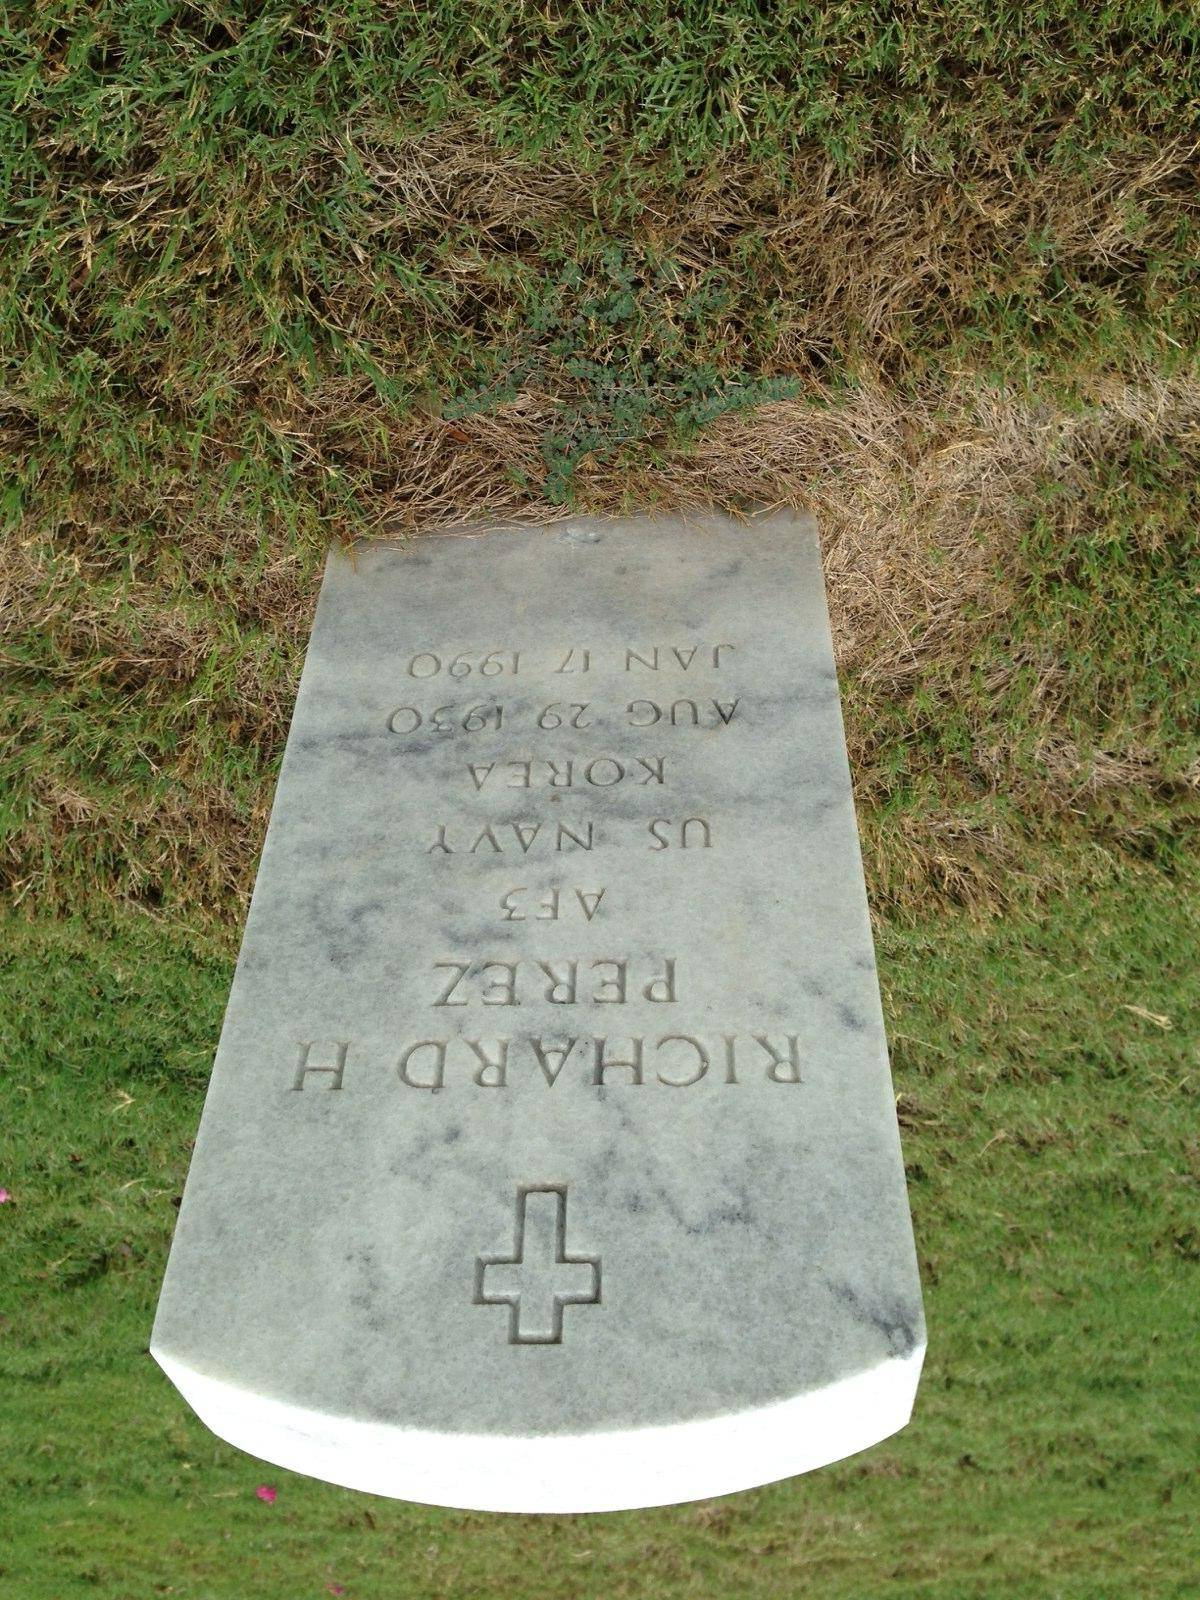military: (268, 88, 1054, 1083)
